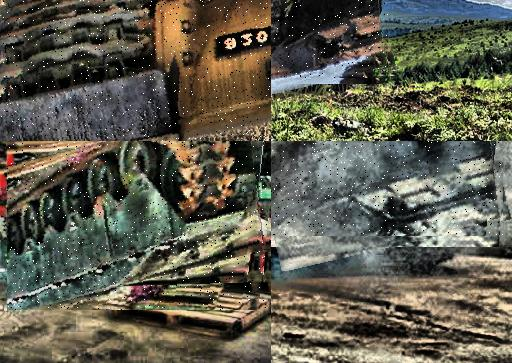tanks: (8, 142, 269, 311), (1, 1, 272, 142), (272, 142, 503, 236), (272, 1, 388, 78)
